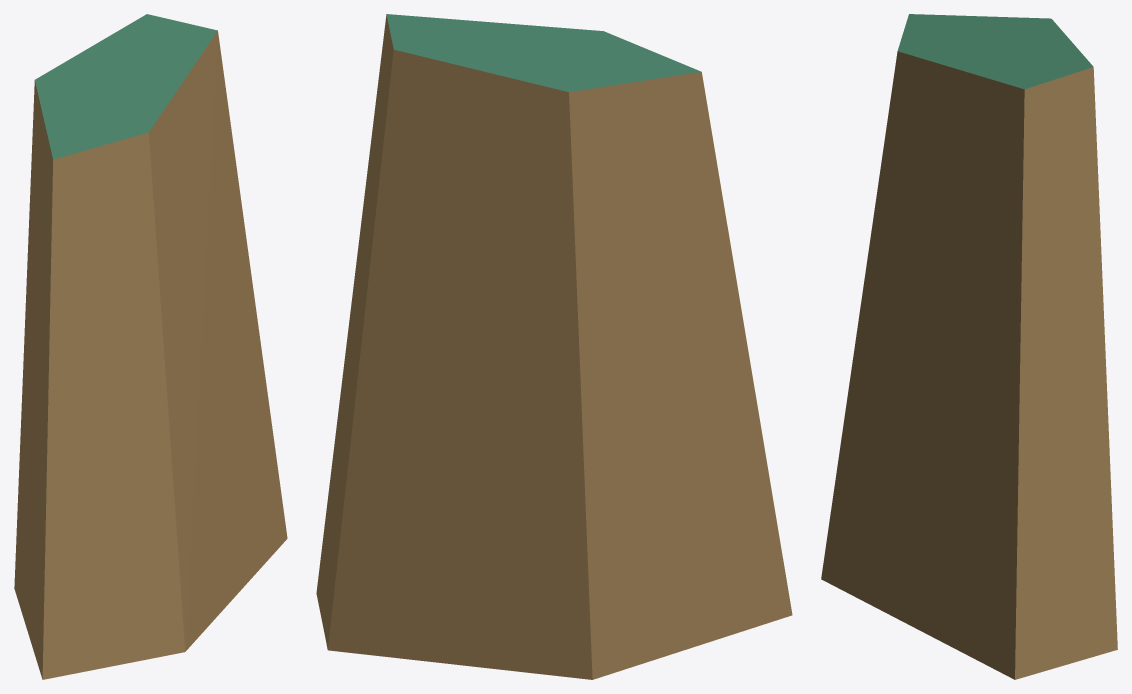
File: Rock_Medium_Mesa_Eroded_Moss_Grass_09.FBX
3 views of the same model, side by side, from view 1: azimuth 30°, elevation 25°; view 2: azimuth 150°, elevation 25°; view 3: azimuth 270°, elevation 25° (orthographic). The views are drawn at different scales.
Visible parts, largest first — view 1: Rock_Medium_Mesa_Eroded_Moss_Grass_09; view 2: Rock_Medium_Mesa_Eroded_Moss_Grass_09; view 3: Rock_Medium_Mesa_Eroded_Moss_Grass_09.
Boxes of the visible parts, box(x1,y1,x2,y2) form: Rock_Medium_Mesa_Eroded_Moss_Grass_09: box(14, 14, 287, 679); Rock_Medium_Mesa_Eroded_Moss_Grass_09: box(316, 14, 792, 679); Rock_Medium_Mesa_Eroded_Moss_Grass_09: box(821, 14, 1117, 679).
Bounding box in the file's own units: 2266 × 3446 × 1658.
